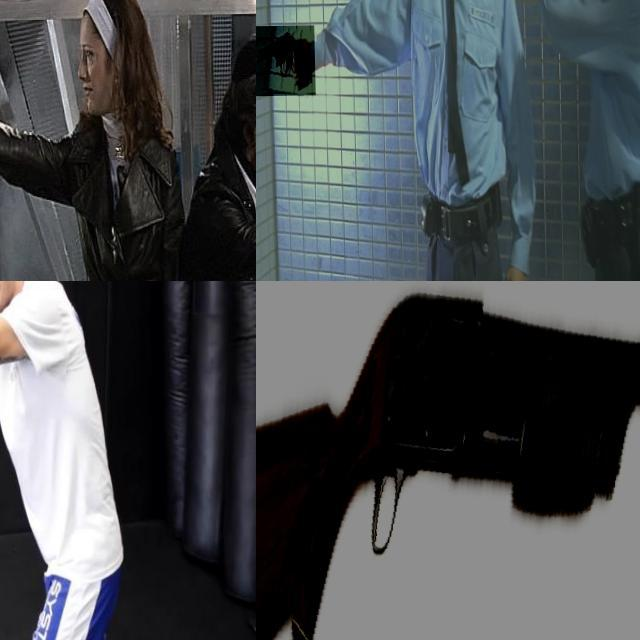-: (0, 338, 44, 446)
gun-knife-thesis - v11 Yolov5 augmented: (256, 281, 640, 640), (256, 26, 314, 97), (0, 62, 30, 144)
